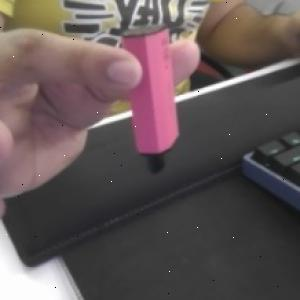Blume-E-Ciggirate: (114, 15, 187, 177)
